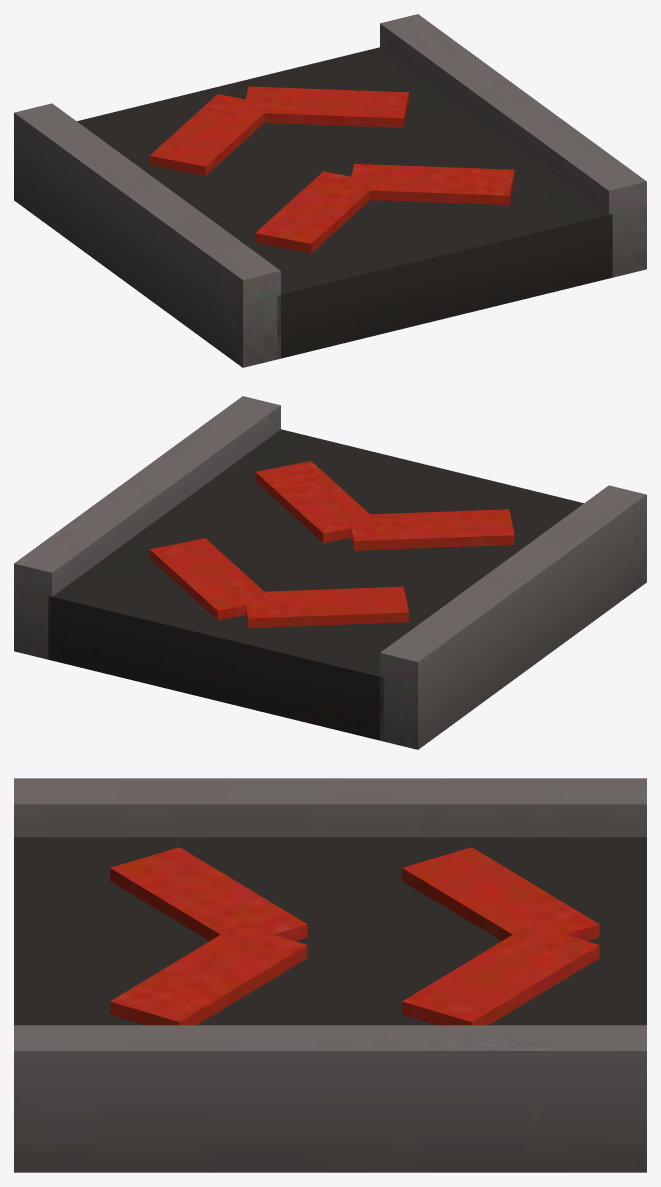
Rendered from fast-transport-belt.glb.
3 views of the same model, one above another, from view 1: azimuth 30°, elevation 25°; view 2: azimuth 150°, elevation 25°; view 3: azimuth 270°, elevation 25° (orthographic). The views are drawn at different scales.
Parts seen in each view (by area): view 1: fast-transport-belt; view 2: fast-transport-belt; view 3: fast-transport-belt.
Boxes of the visible parts, <box> form: fast-transport-belt: <box>14,14,646,367</box>; fast-transport-belt: <box>14,396,646,749</box>; fast-transport-belt: <box>14,778,646,1172</box>.
Bounding box in the file's own units: 0.265 × 0.055 × 0.26.
1 material, 1 textured.
